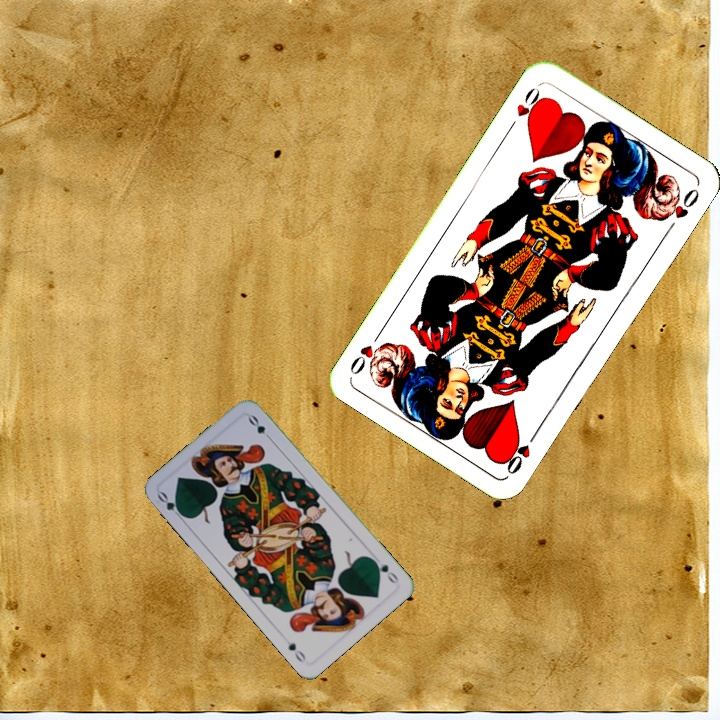GO: (153, 488, 188, 523), (368, 555, 401, 586)
HO: (504, 81, 547, 133), (501, 425, 541, 478)
